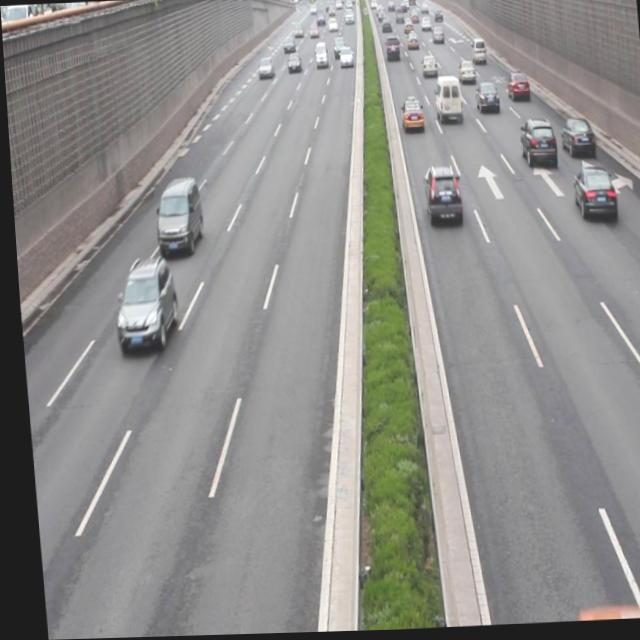car: (107, 258, 175, 353), (567, 168, 612, 227), (418, 167, 458, 231), (517, 119, 552, 171), (556, 121, 591, 162), (397, 98, 422, 134), (471, 83, 497, 113)
truck: (150, 176, 201, 258), (431, 78, 460, 128)
